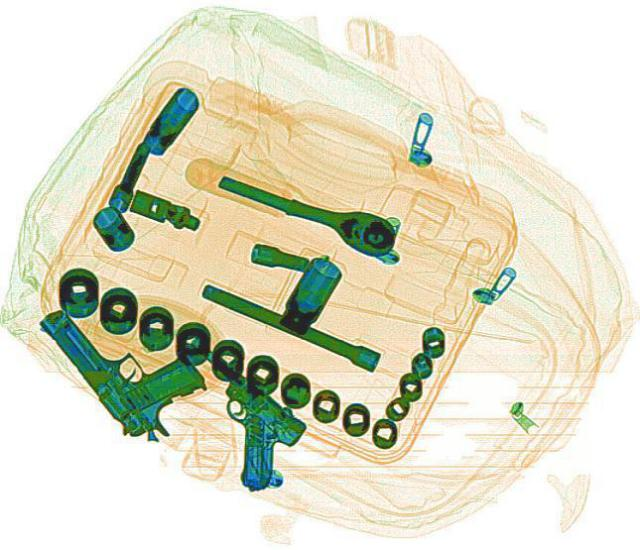Gun: (28, 276, 222, 449), (169, 369, 327, 494)
